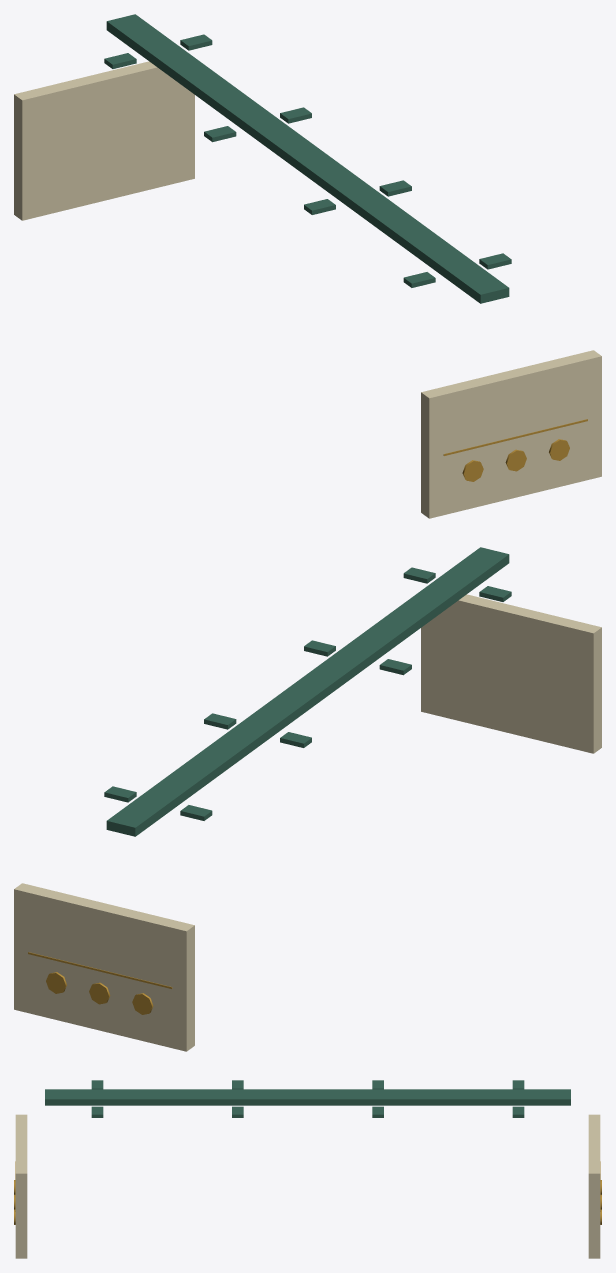
The model's file is vls8_ignition.obj.
3 views of the same model, one above another, from view 1: azimuth 30°, elevation 25°; view 2: azimuth 150°, elevation 25°; view 3: azimuth 270°, elevation 25° (orthographic). The views are drawn at different scales.
Visible parts, largest first — view 1: vls8_ignition; view 2: vls8_ignition; view 3: vls8_ignition.
Boxes of the visible parts, bbox=[...] form: vls8_ignition: bbox=[14, 14, 601, 518]; vls8_ignition: bbox=[14, 547, 601, 1051]; vls8_ignition: bbox=[14, 1080, 601, 1258].
Bounding box in the file's own units: 1.2 × 1.27 × 5.03.
